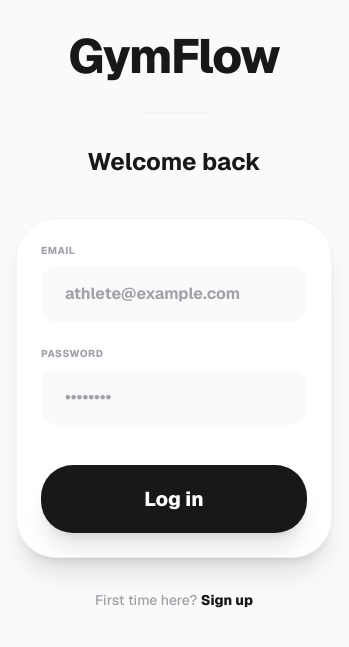
AuthView › surfaces the error within the form and stays on the form when login is rejected, preserving the entered email
The image size is (349, 647).
Type "me@example.com" into the field with placeholder "athlete@example.com" at (174, 294), box x1=41 y1=266 x2=307 y2=322
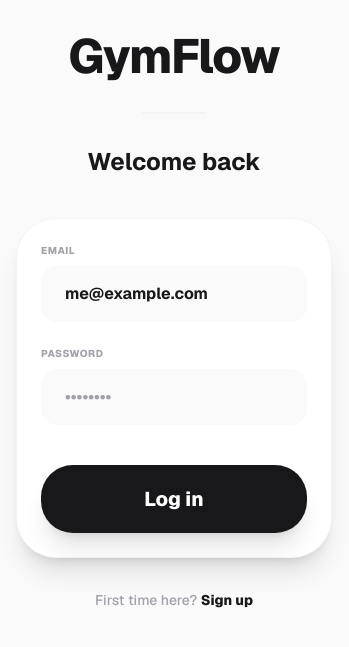
Type "wrong-pass" into the password field with placeholder "••••••••" at (174, 397), box x1=41 y1=369 x2=307 y2=425
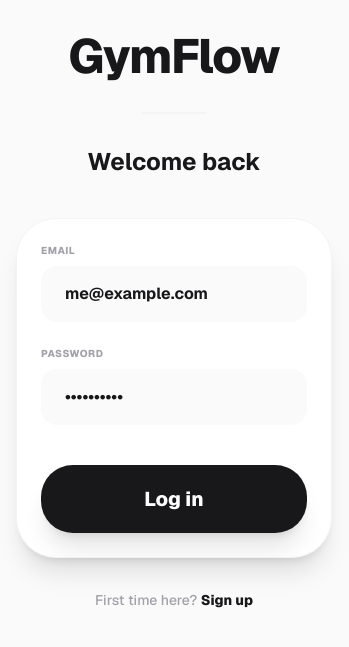
Click the button "Log in" at (174, 499), box x1=41 y1=465 x2=307 y2=533
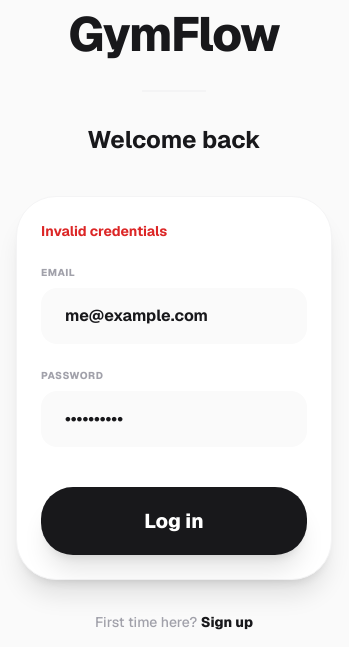
Expected: the button "Log in" is shown, x1=41 y1=487 x2=307 y2=555
Expected: the text "Invalid credentials" is shown, x1=41 y1=222 x2=167 y2=240
